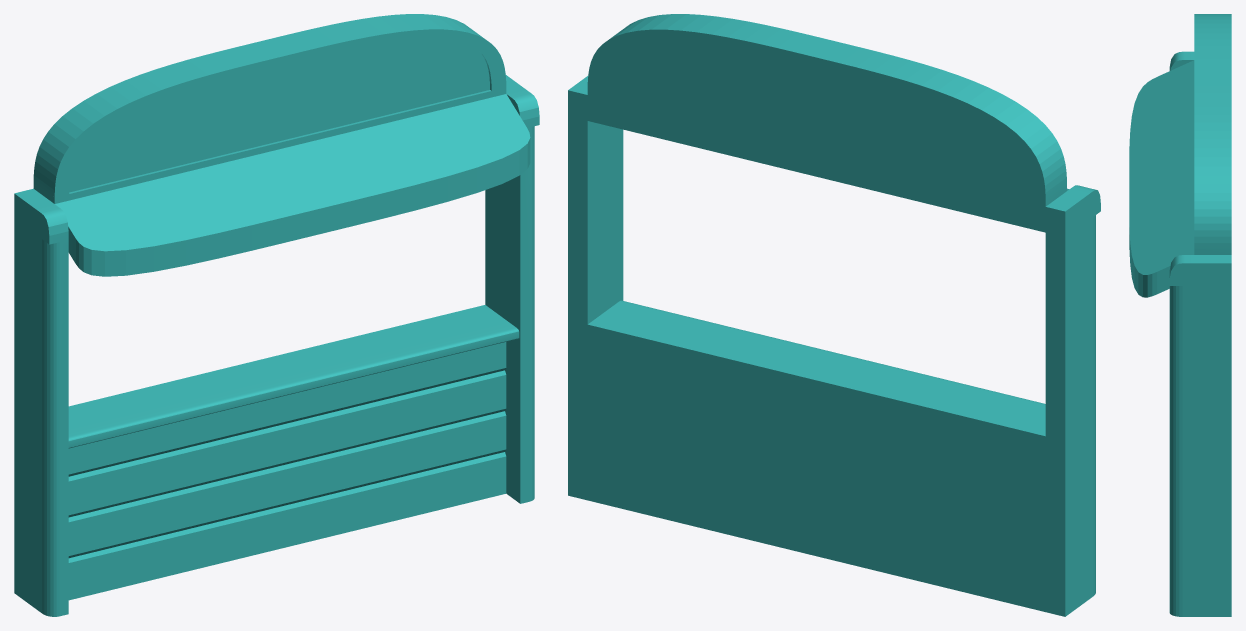
File: storeStand.fbx
The picture shows the model from 3 angles, left to right: view 1: azimuth 30°, elevation 25°; view 2: azimuth 150°, elevation 25°; view 3: azimuth 270°, elevation 25°; orthographic projection. The views are drawn at different scales.
Visible parts, largest first — view 1: Cube; view 2: Cube; view 3: Cube.
Part boxes in pixels (x1,y1,x2,y2): Cube: (14,14,539,616); Cube: (568,14,1100,616); Cube: (1129,14,1231,616).
Size of the model in its own units: 511 by 490 by 105.
